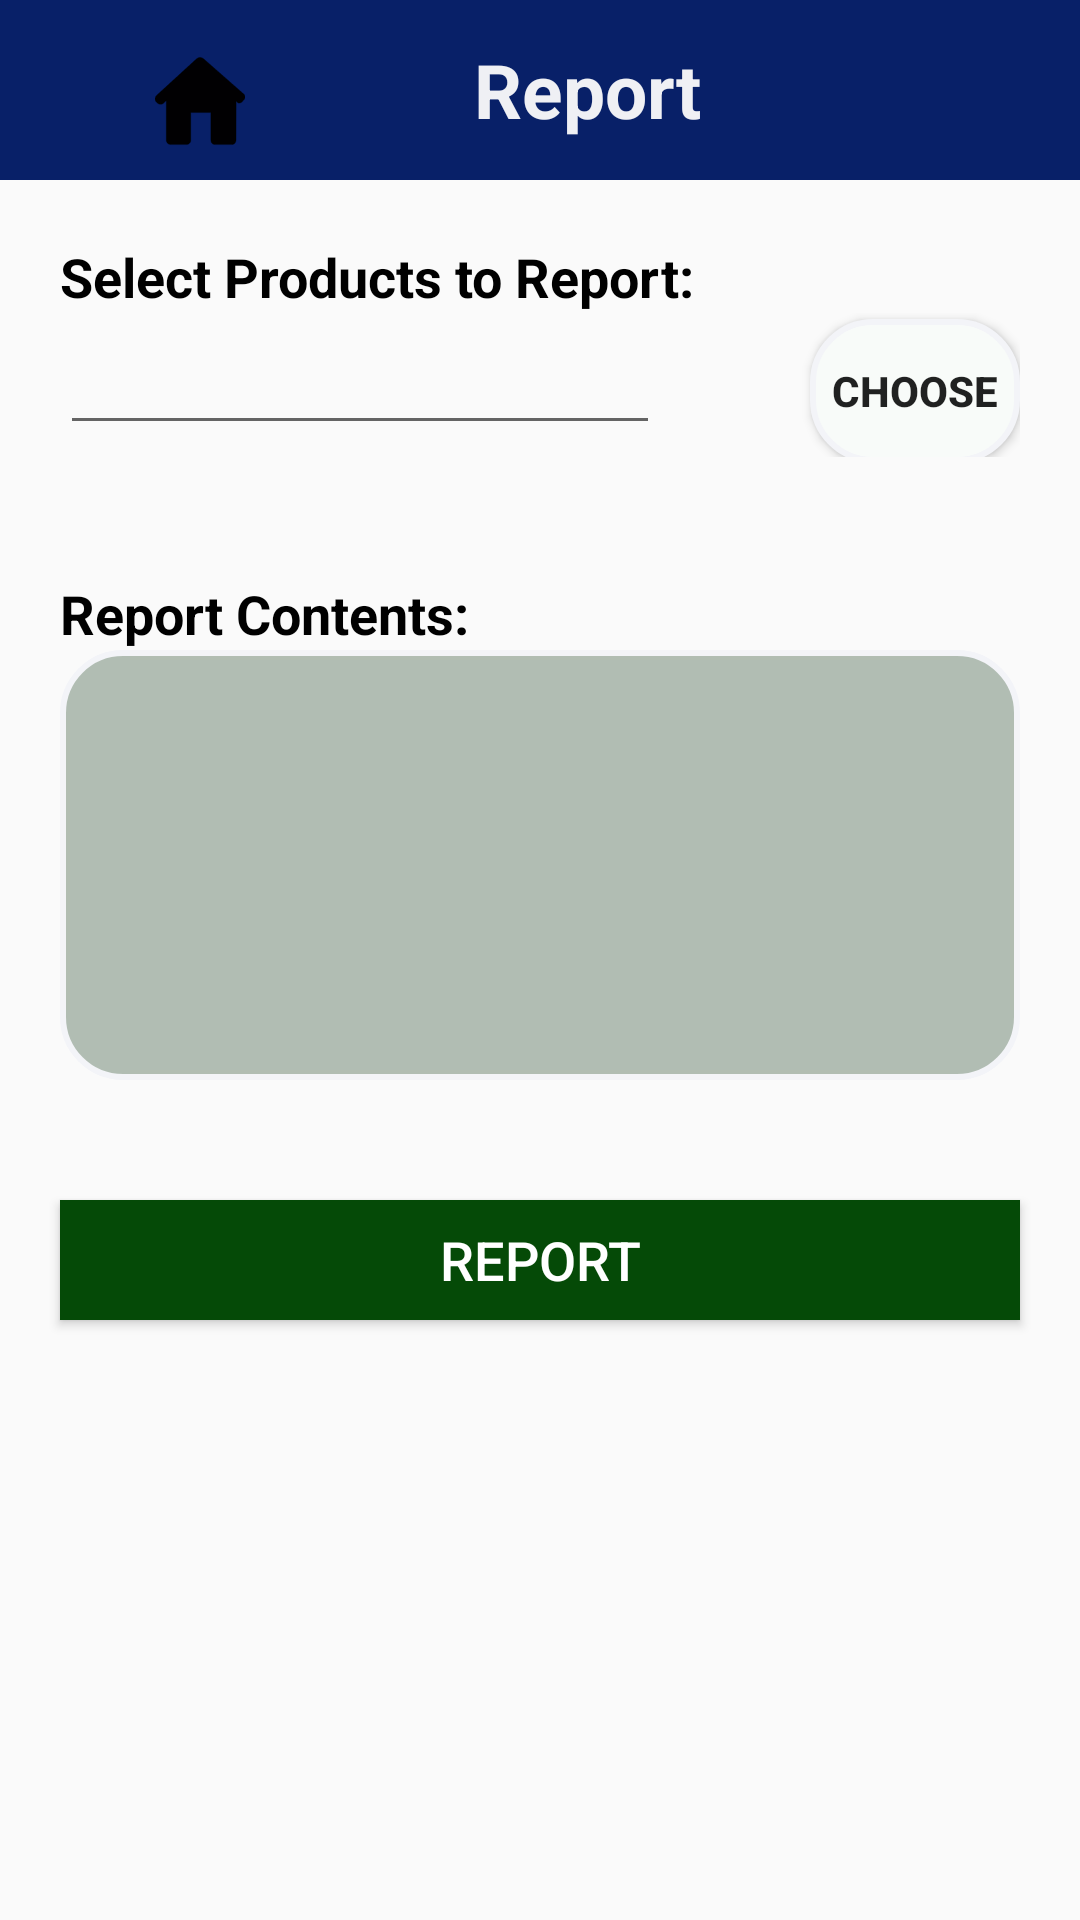

Screen size 1080x1920. Icon name, then its box in pixels as (x1, y1, x2, y2):
homeback: (155, 57, 245, 145)
